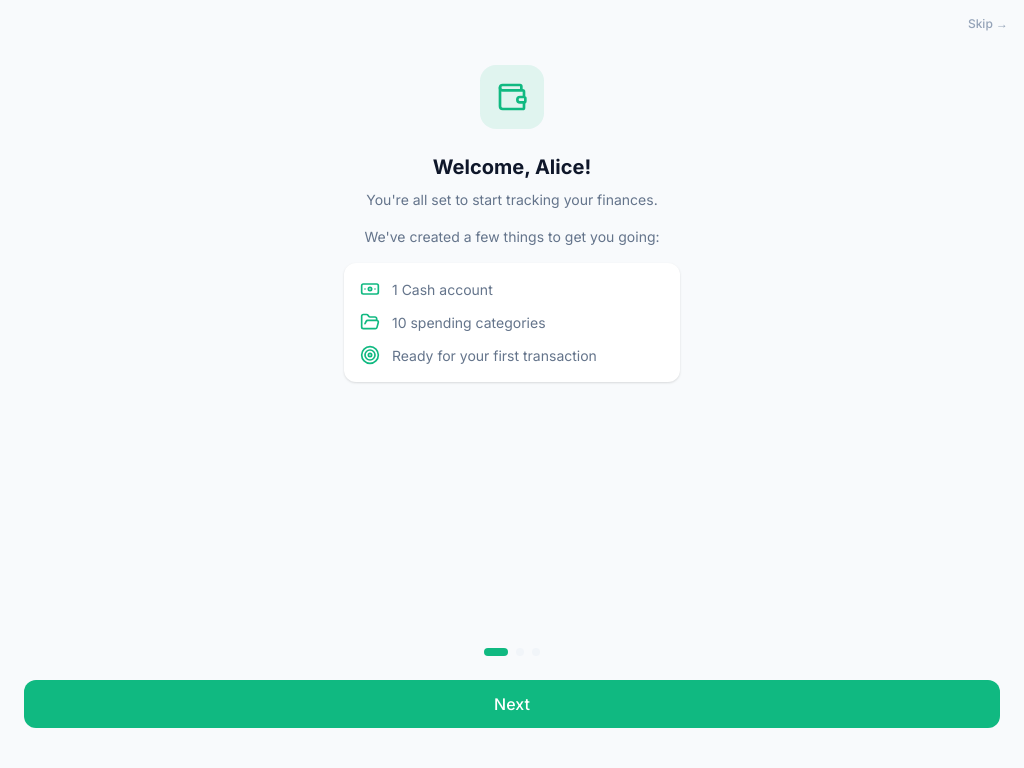
Test: OnboardingPage › shows Back button on Step 2
Step 1. Click the button with test id "next-btn" → (512, 704), box [24,680,1000,728]
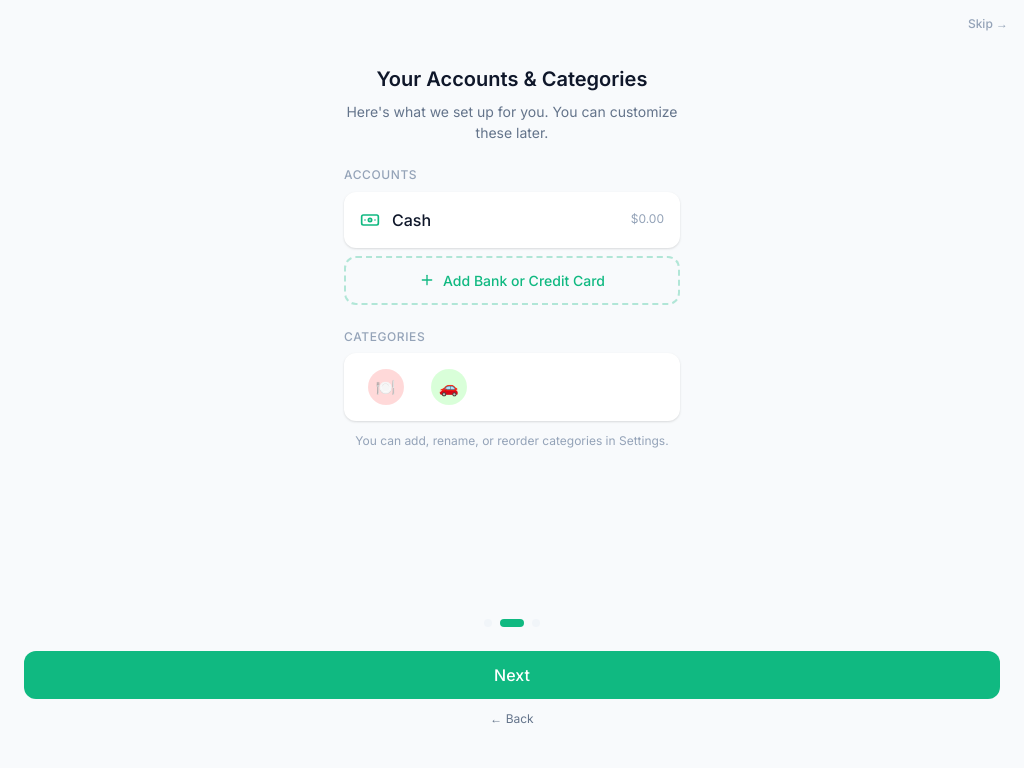
Expected: the button with test id "back-btn" is shown, [24,711,1000,728]
